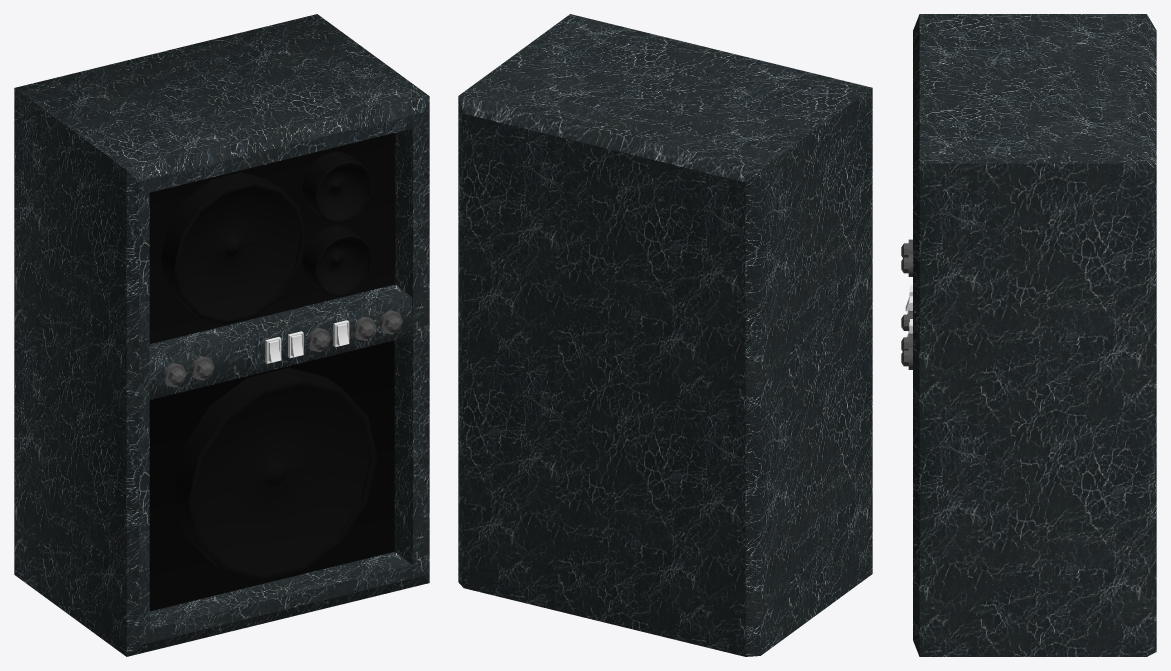
Rendered from Speaker_Small.FBX.
The picture shows the model from 3 angles, left to right: view 1: azimuth 30°, elevation 25°; view 2: azimuth 150°, elevation 25°; view 3: azimuth 270°, elevation 25°; orthographic projection.
Parts seen in each view (by area): view 1: Box001, Speaker001, Speaker002, Speaker003, Speaker004; view 2: Box001; view 3: Box001.
Part boxes in pixels (left/top/right/bottom): Box001: left=14, top=14, right=429, bottom=656; Speaker001: left=174, top=367, right=377, bottom=581; Speaker002: left=161, top=172, right=306, bottom=323; Speaker003: left=302, top=225, right=372, bottom=296; Speaker004: left=302, top=151, right=372, bottom=222; Box001: left=458, top=14, right=872, bottom=656; Box001: left=913, top=14, right=1156, bottom=656.
Size of the model in its own units: 29.21 by 44.87 by 21.08.
Materials: 5 (1 with a texture image).
